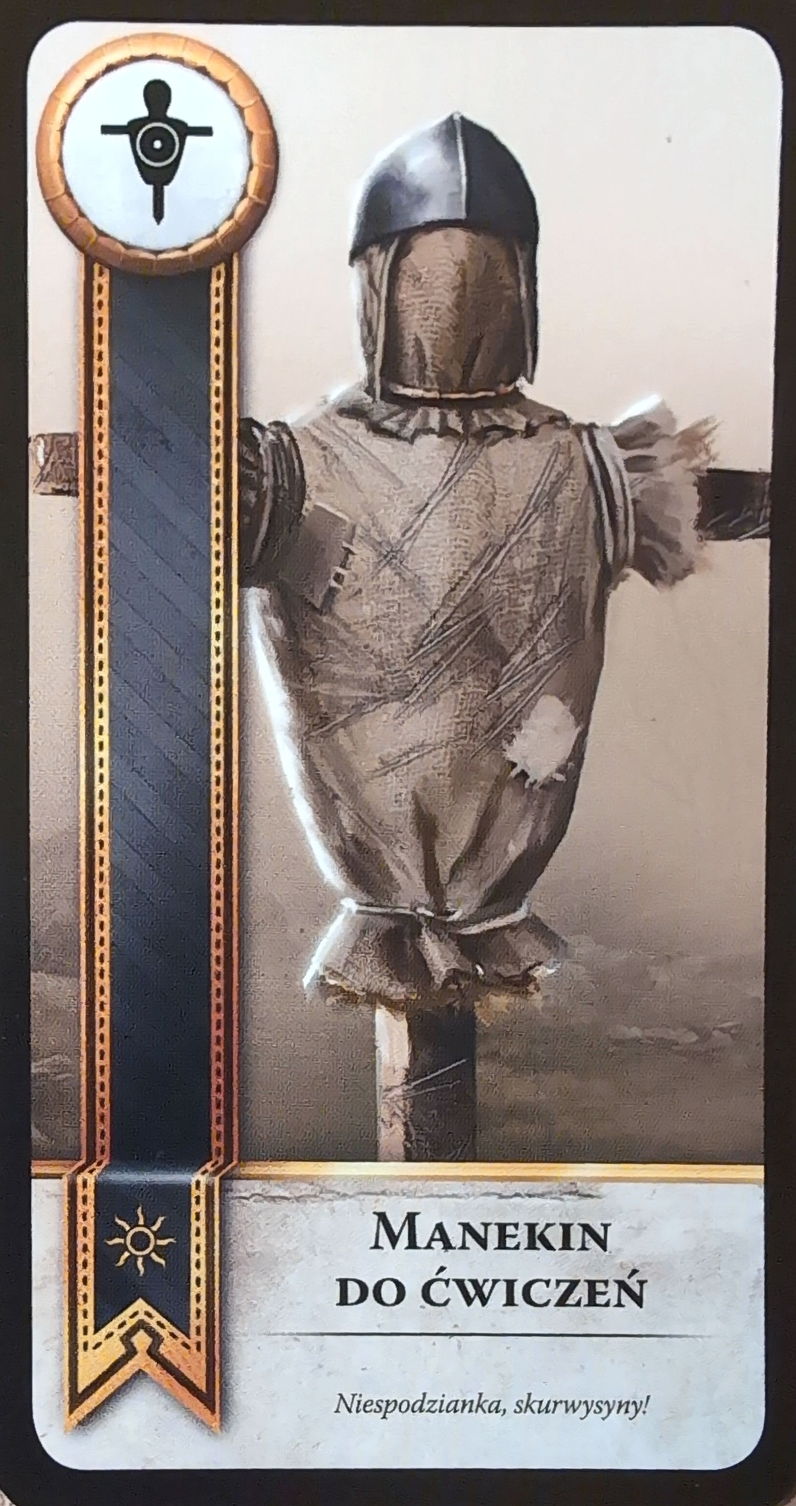manekin: (35, 32, 281, 277)
